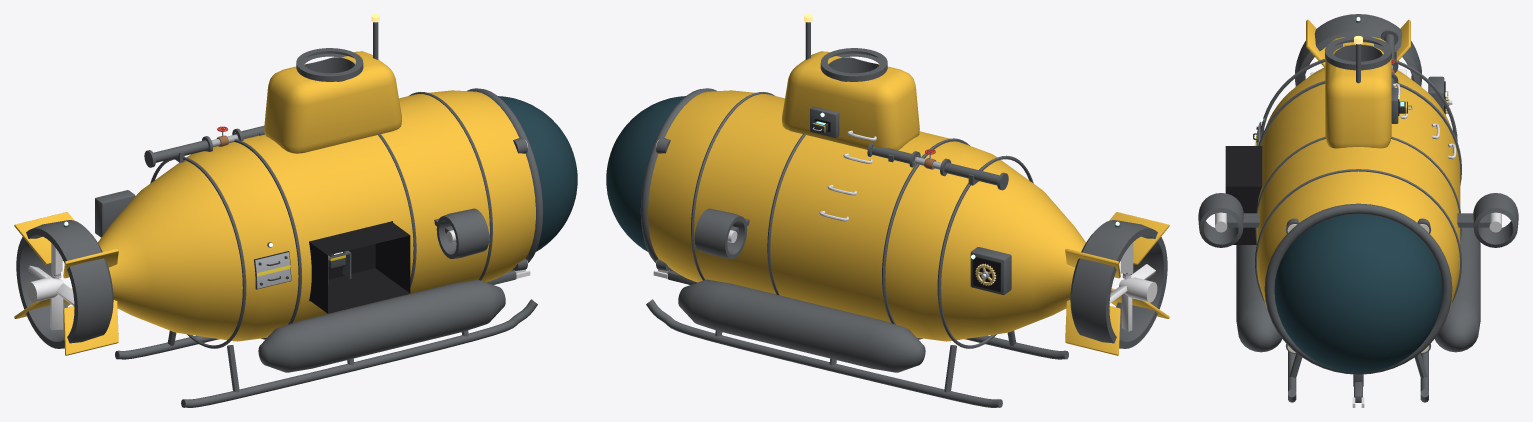
File: SM_Submarine_Repaired.fbx
3 views of the same model, side by side, from view 1: azimuth 30°, elevation 25°; view 2: azimuth 150°, elevation 25°; view 3: azimuth 270°, elevation 25° (orthographic).
Parts seen in each view (by area): view 1: SM_Submarine_Repaired; view 2: SM_Submarine_Repaired; view 3: SM_Submarine_Repaired.
Part boxes in pixels (box(x1,y1,x2,y2)): SM_Submarine_Repaired: box(14, 14, 577, 407); SM_Submarine_Repaired: box(606, 14, 1169, 407); SM_Submarine_Repaired: box(1198, 14, 1518, 407).
Size of the model in its own units: 7 by 3.97 by 3.62.
